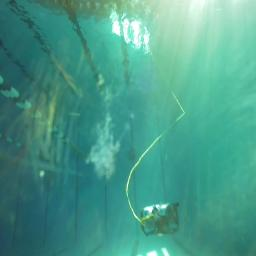back: (140, 201, 180, 238)
